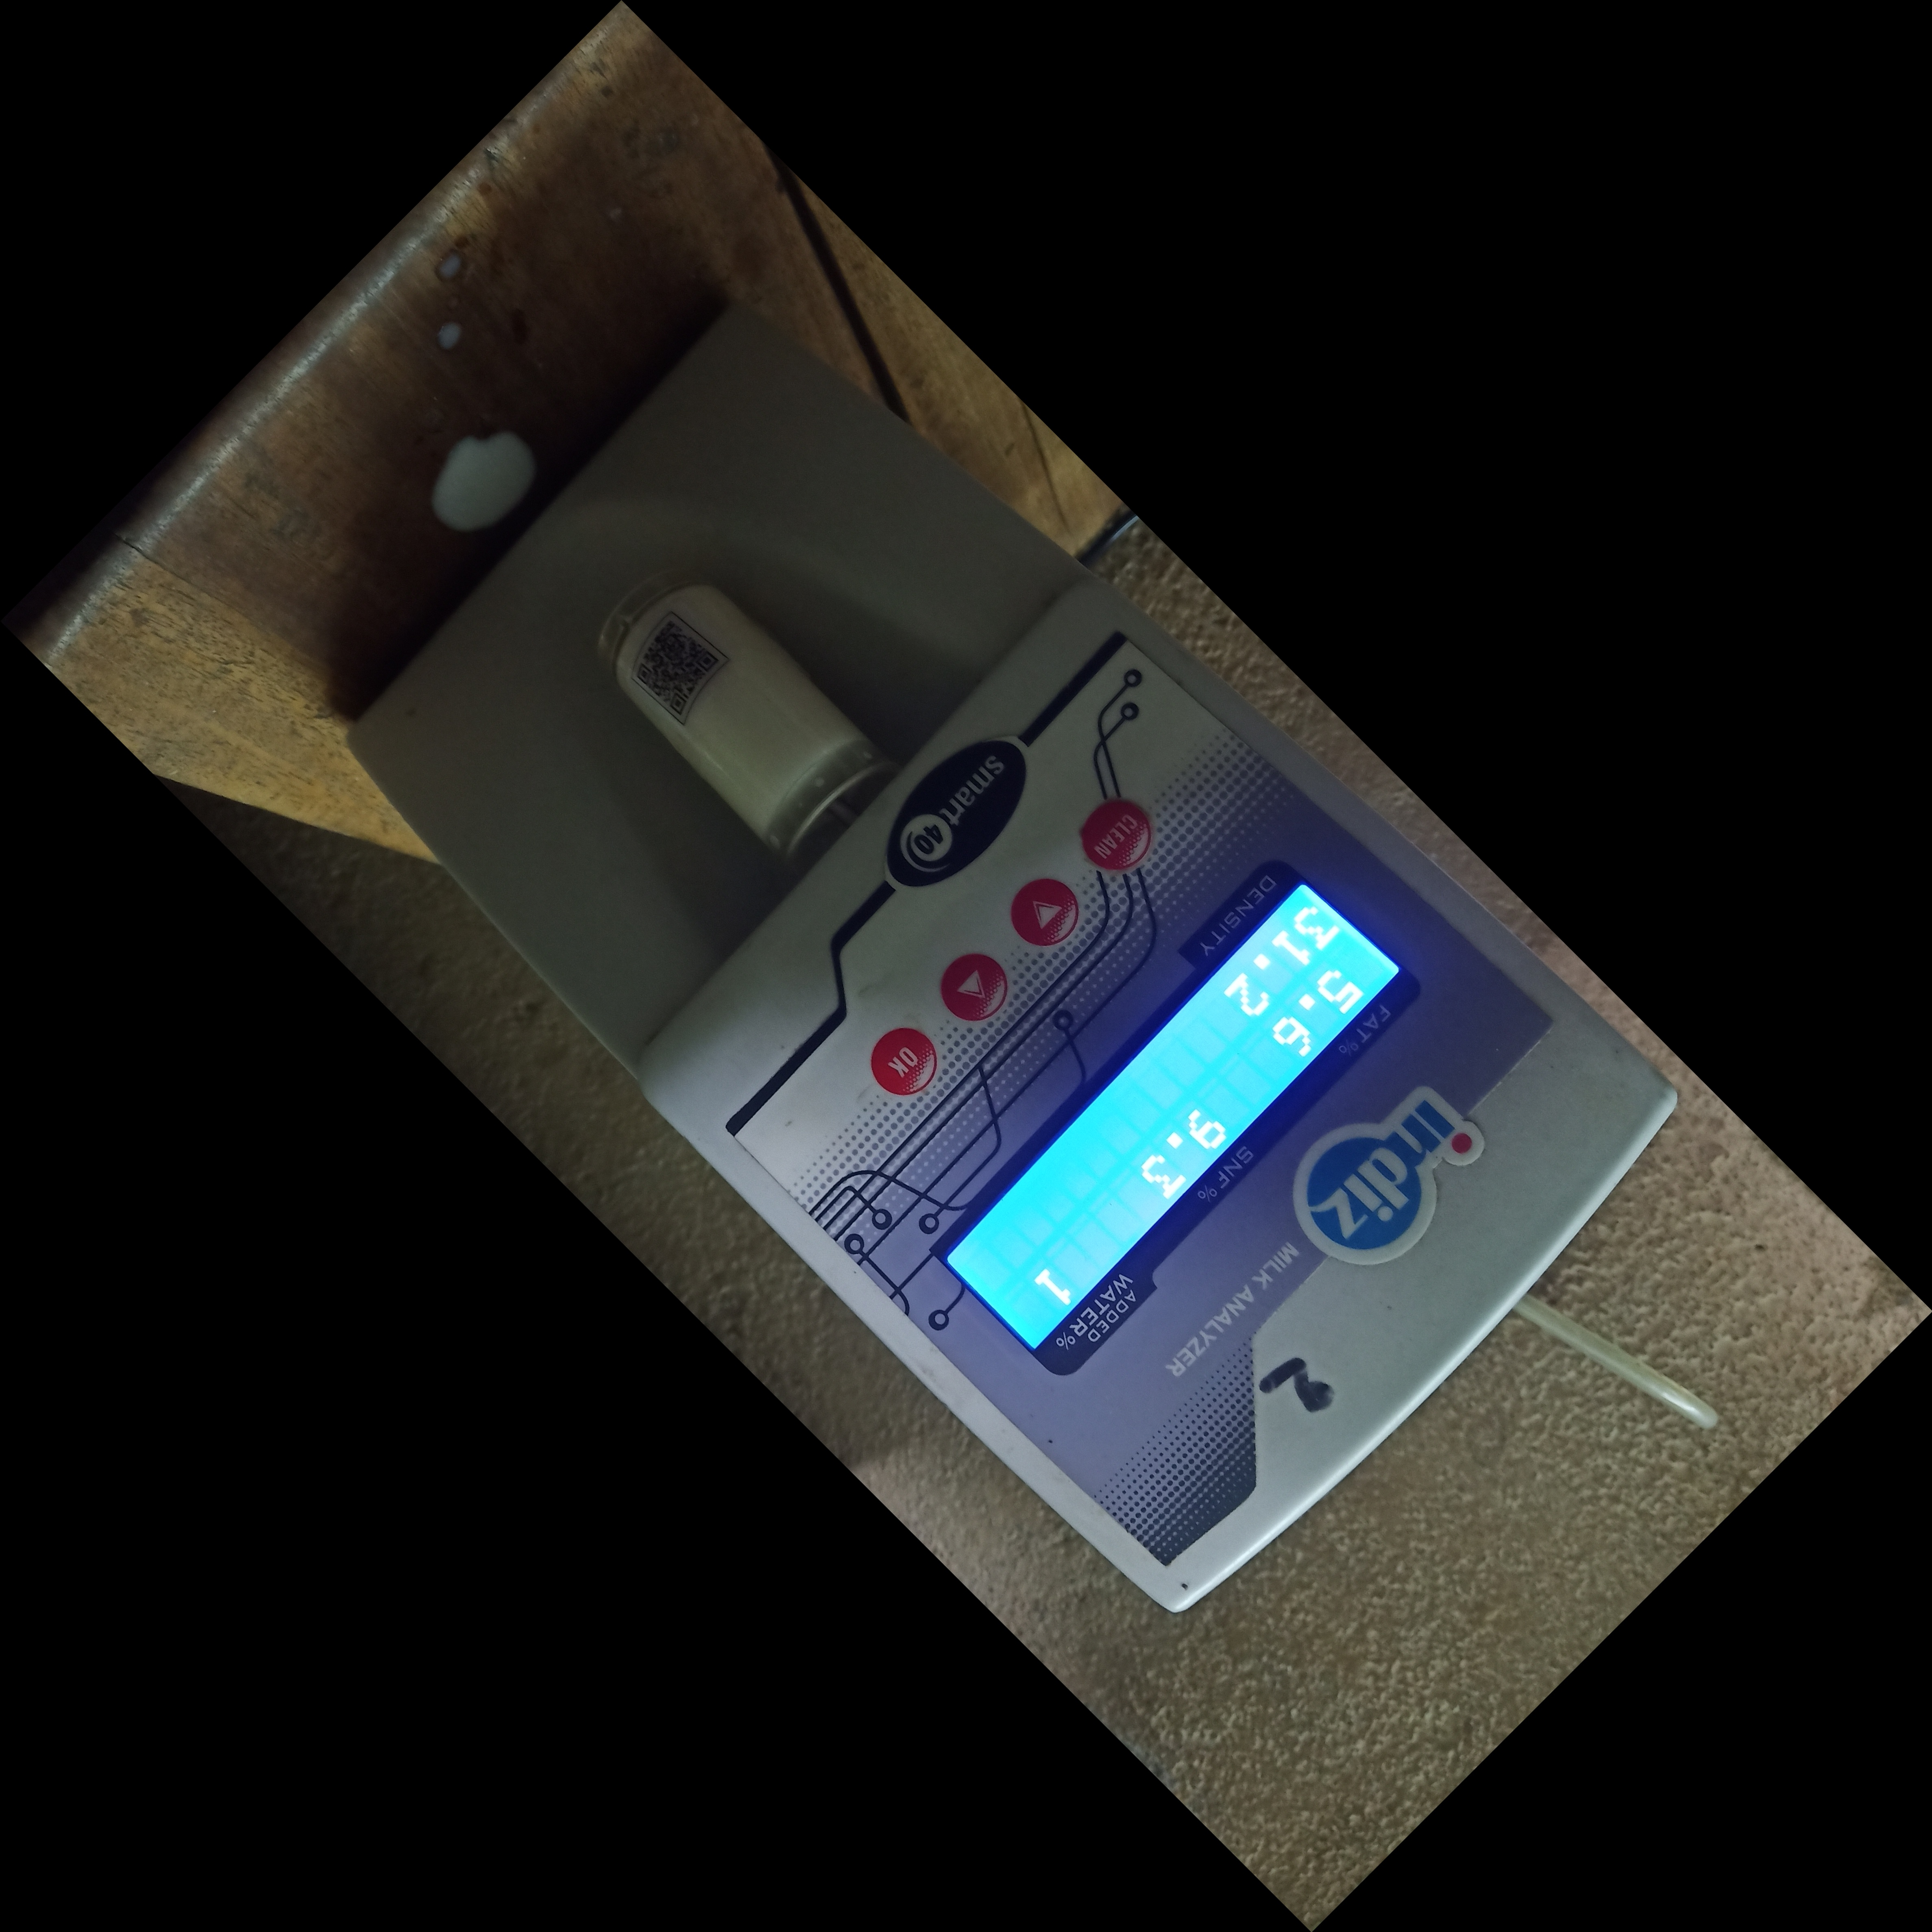lcd: (936, 860, 1417, 1407)
qr: (617, 607, 736, 725)
